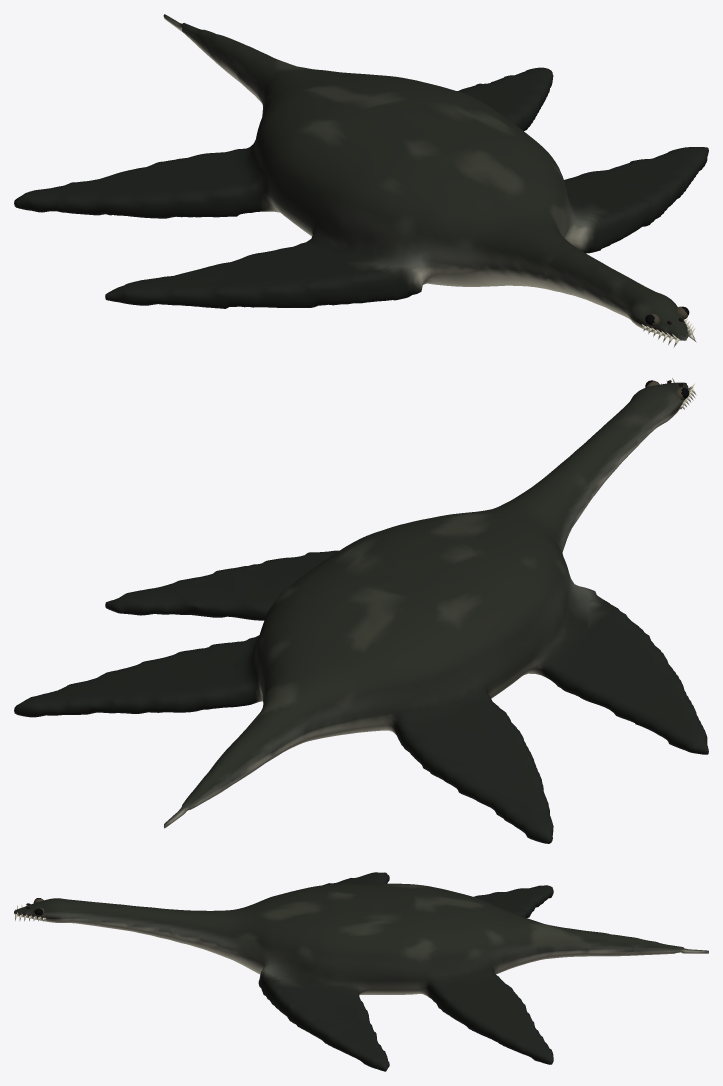
The model's file is Plesiosaurus.fbx.
3 renders of one model, top to bottom at view 1: azimuth 30°, elevation 25°; view 2: azimuth 150°, elevation 25°; view 3: azimuth 270°, elevation 25°, orthographic. The views are drawn at different scales.
Visible parts, largest first — view 1: Plesiosaurus; view 2: Plesiosaurus; view 3: Plesiosaurus.
Boxes of the visible parts, x1,y1,x2,y2 form: Plesiosaurus: (14,14,708,347); Plesiosaurus: (14,378,708,843); Plesiosaurus: (14,872,708,1071).
Bounding box in the file's own units: 1.27 × 0.2382 × 1.91.
